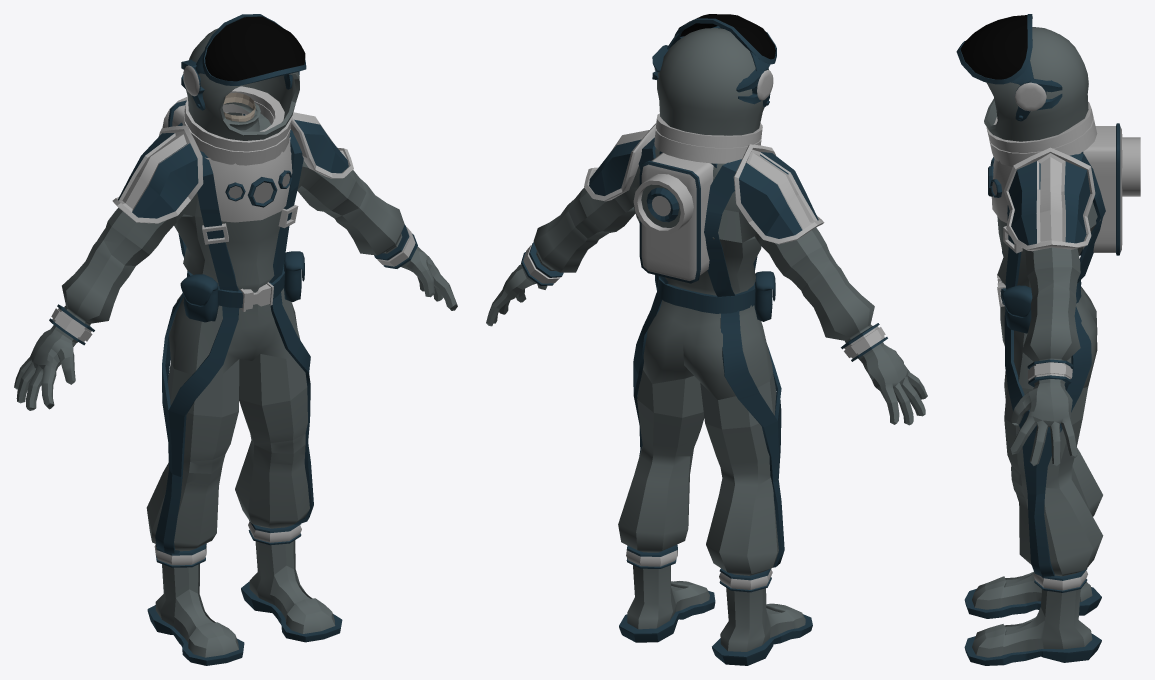
The model's file is TempAstroFirstPerson_HelmetOff.fbx.
The picture shows the model from 3 angles, left to right: view 1: azimuth 30°, elevation 25°; view 2: azimuth 150°, elevation 25°; view 3: azimuth 270°, elevation 25°; orthographic projection.
Visible parts, largest first — view 1: MainBody1, BodyStrap, ShoulderPad, polySurface8, MainHelmet, ChestPlate, Pouch, CollarTop, CollarBottom, polySurface9, Belt, StrapBuckle; view 2: MainBody1, MainHelmet, ShoulderPad, BodyStrap, BackpackMain, Belt, CollarBottom, polySurface16, polySurface8, polySurface15, CollarTop, Pouch (+1 smaller); view 3: MainBody1, ShoulderPad, MainHelmet, BodyStrap, BackpackMain, polySurface8, CollarTop, CollarBottom, Pouch, polySurface16, polySurface9, polySurface28 (+2 smaller).
Boxes of the visible parts, x1,y1,x2,y2 form: MainBody1: (14,92,457,665); BodyStrap: (155,122,313,553); ShoulderPad: (112,112,353,223); polySurface8: (205,16,305,81); MainHelmet: (186,28,299,140); ChestPlate: (205,137,292,222); Pouch: (180,251,304,322); CollarTop: (184,86,291,150); CollarBottom: (182,101,290,165); polySurface9: (202,14,306,85); Belt: (187,262,284,307); StrapBuckle: (202,205,298,244); MainBody1: (486,148,927,665); MainHelmet: (657,28,768,135); ShoulderPad: (584,123,824,244); BodyStrap: (633,137,784,567); BackpackMain: (639,151,717,283); Belt: (657,276,755,313); CollarBottom: (654,129,761,163); polySurface16: (633,174,693,234); polySurface8: (678,14,775,59); polySurface15: (641,184,680,227); CollarTop: (656,113,762,146); Pouch: (655,271,775,321); MainBody1: (964,153,1103,665); ShoulderPad: (1004,147,1095,251); MainHelmet: (984,27,1088,141); BodyStrap: (1004,154,1105,576); BackpackMain: (1079,123,1122,255); polySurface8: (960,15,1027,79); CollarTop: (986,101,1093,151); CollarBottom: (989,118,1097,166); Pouch: (1002,251,1032,333); polySurface16: (1122,137,1140,196); polySurface9: (956,14,1032,84); polySurface28: (1015,82,1046,111).
Size of the model in its own units: 7.18 by 9.82 by 2.68.
